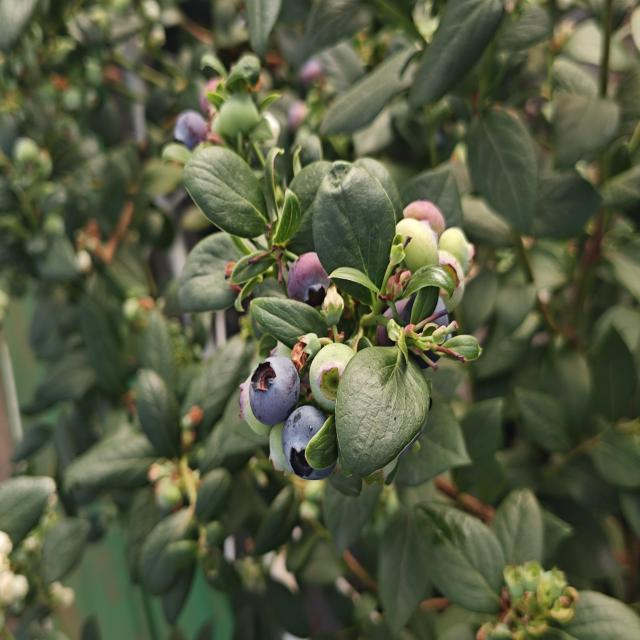ripe: (380, 289, 453, 384), (281, 403, 342, 488), (245, 338, 302, 427), (277, 240, 335, 311), (168, 105, 215, 158)
